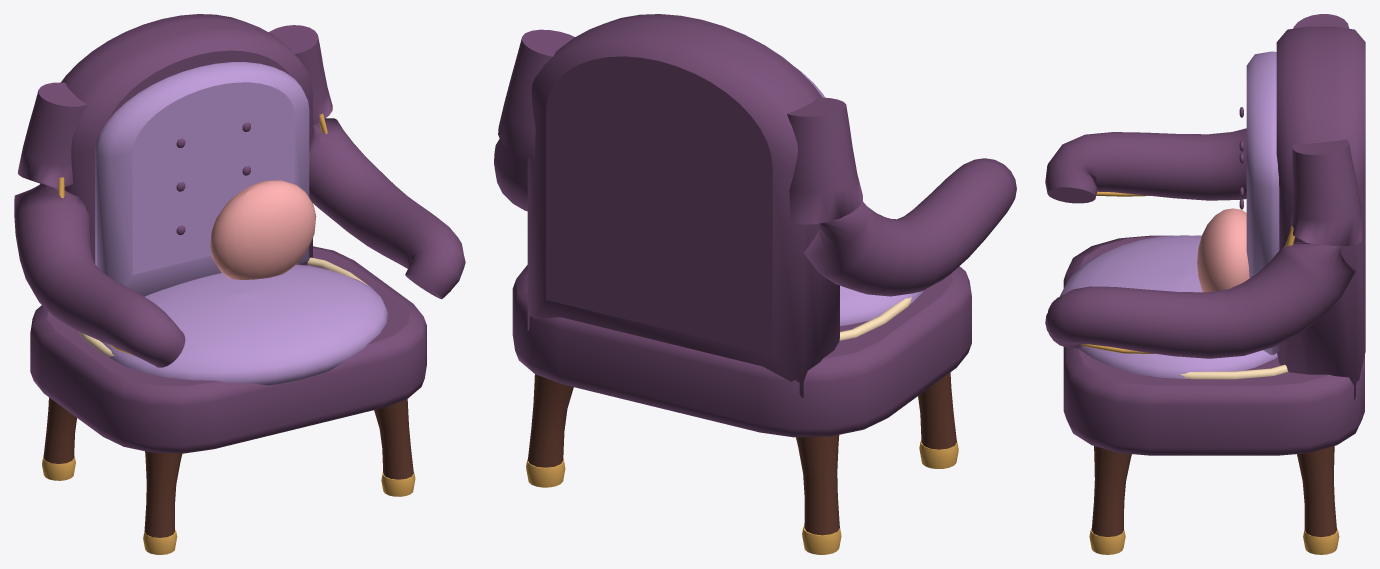
File: atelier_reading_chair.glb
3 views of the same model, side by side, from view 1: azimuth 30°, elevation 25°; view 2: azimuth 150°, elevation 25°; view 3: azimuth 270°, elevation 25° (orthographic). The views are drawn at different scales.
Visible parts, largest first — view 1: Sillón de lectura; view 2: Sillón de lectura; view 3: Sillón de lectura.
Part boxes in pixels (<box>): Sillón de lectura: <box>14,14,465,554</box>; Sillón de lectura: <box>494,14,1016,554</box>; Sillón de lectura: <box>1045,14,1365,554</box>.
Size of the model in its own units: 1.05 by 1.15 by 0.759.
